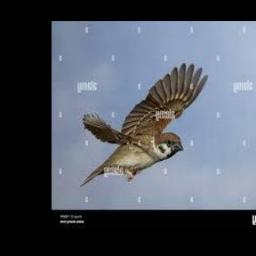Sparrow: (80, 63, 209, 188)
